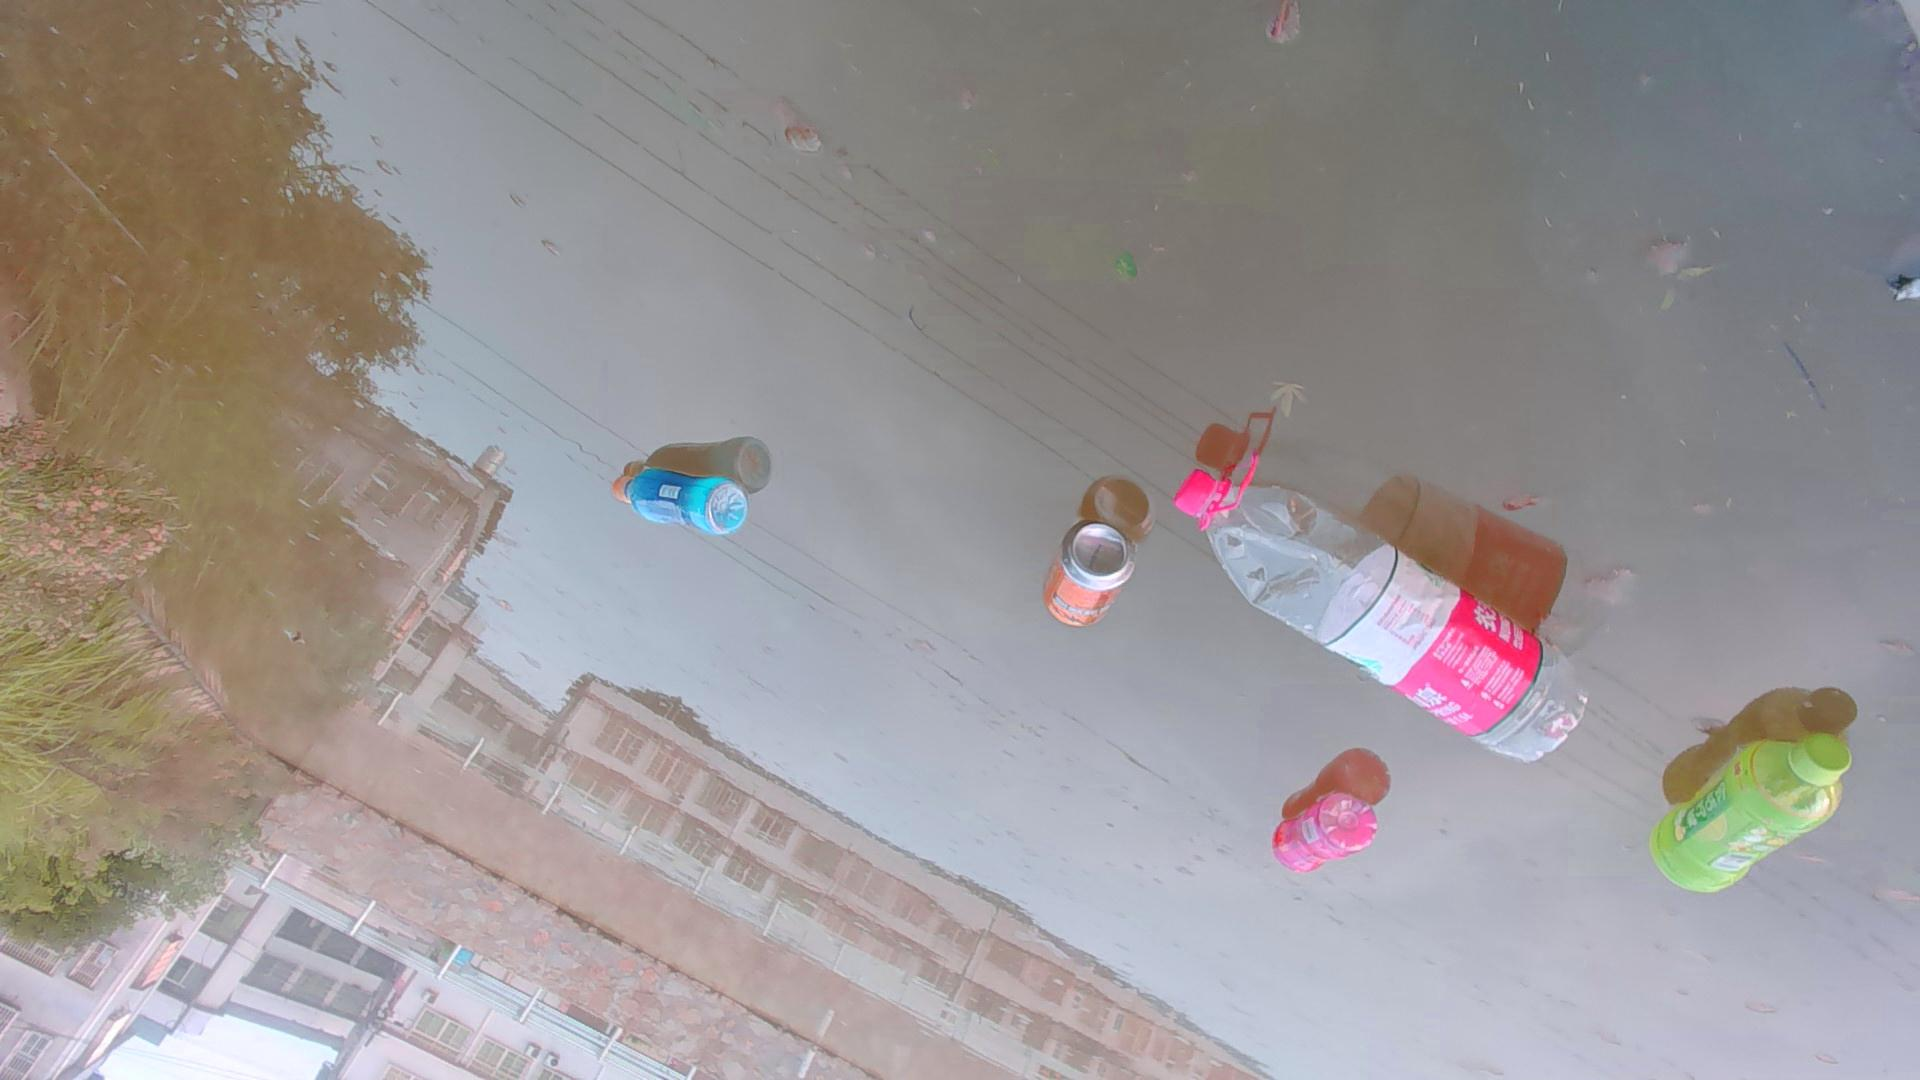Metal: (1035, 514, 1139, 640)
Plastic: (1170, 454, 1596, 769), (1647, 728, 1866, 906), (1254, 789, 1386, 890), (605, 468, 753, 551)
